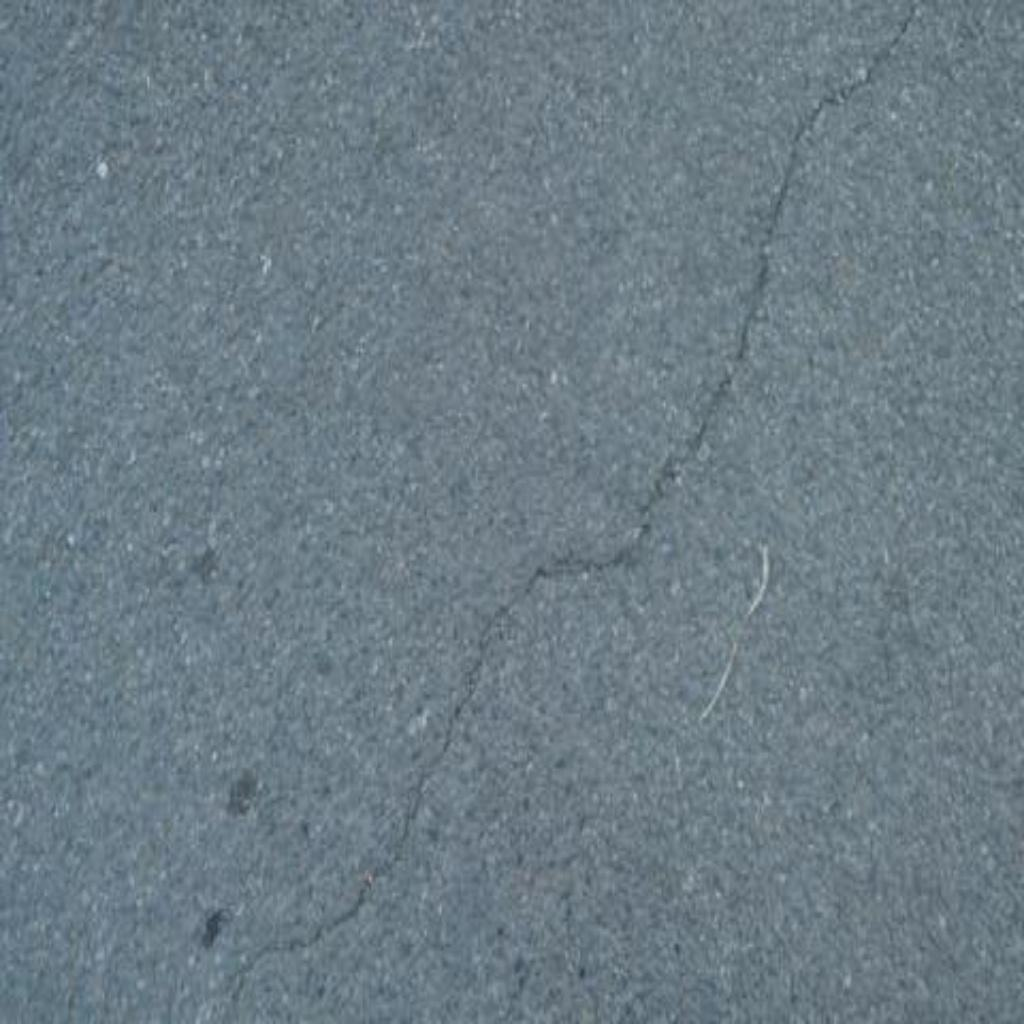Crack: (234, 1, 916, 1003)
